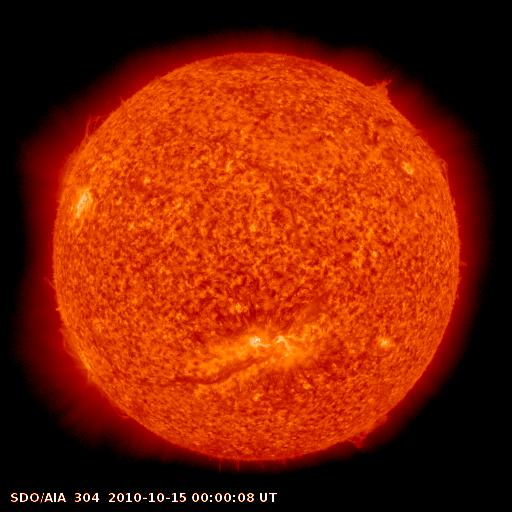prominence: (48, 110, 104, 214), (48, 320, 99, 385), (335, 407, 404, 454), (412, 124, 453, 186), (361, 61, 401, 110)
